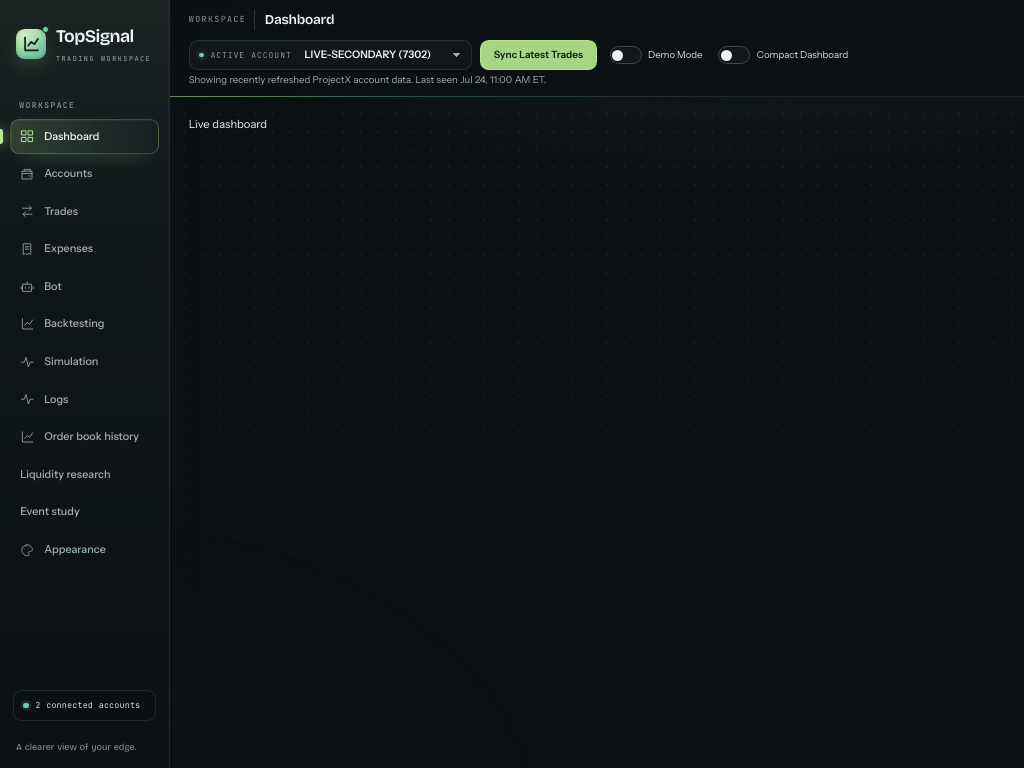
Scenario: AppShell transition safety integration › keeps a non-main active account through Appearance and when the query is absent
The width and height of the screenshot is (1024, 768).
Expected: the dropdown labelled "Active Account" shows "LIVE-SECONDARY (7302)", [295,41,471,69]
Click the link "Appearance" at (63,550), box [20,543,106,557]
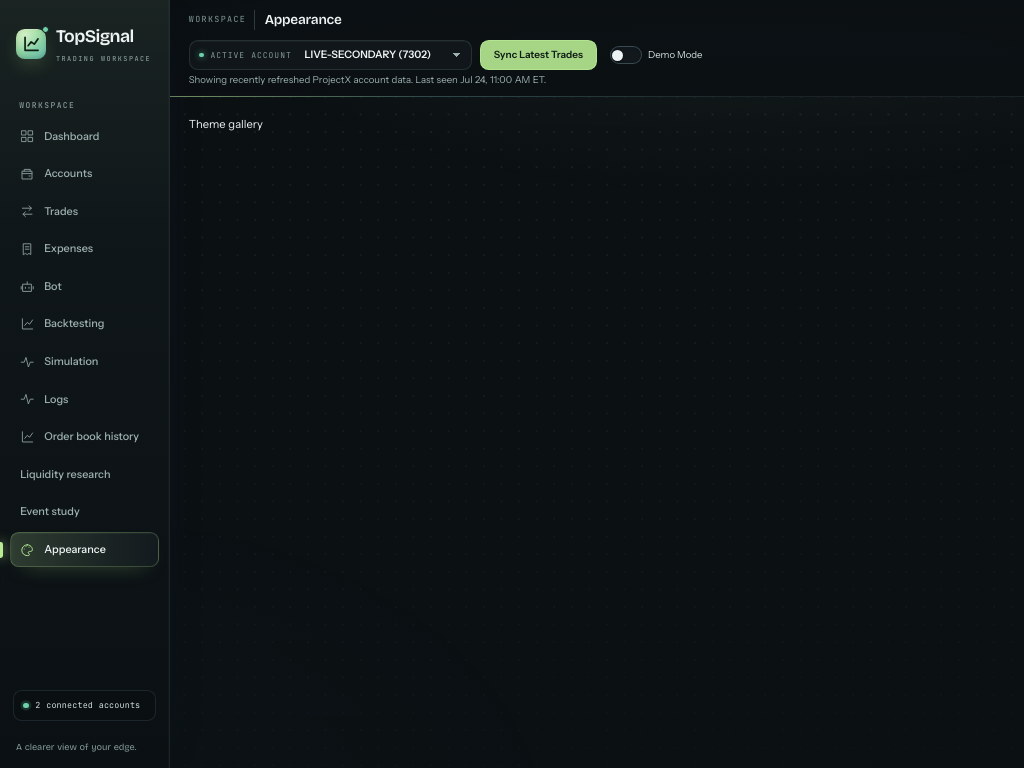
Expected: the dropdown labelled "Active Account" shows "LIVE-SECONDARY (7302)", [295,41,471,69]
Result: the text "Theme gallery" is shown at [189,117,263,131]
